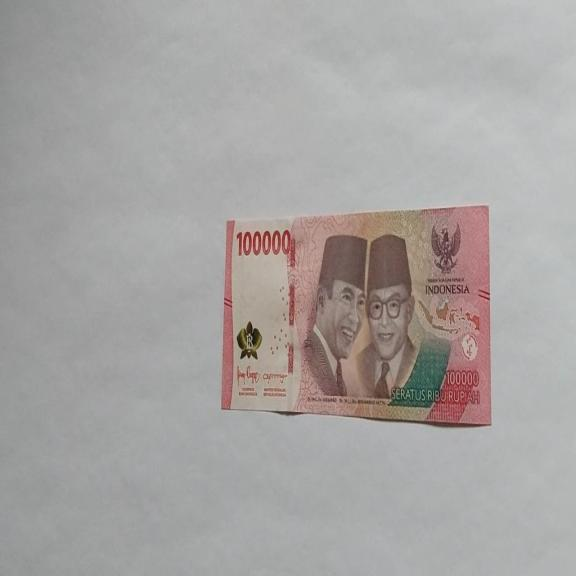Kertas: (220, 205, 492, 426), (235, 227, 292, 258)
